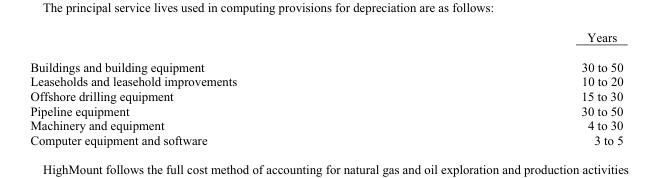table: (29, 29, 622, 146)
table column: (29, 29, 408, 146), (408, 29, 622, 146)
table column header: (29, 29, 622, 51)
table row: (29, 29, 622, 51), (29, 51, 622, 73), (29, 73, 622, 88), (29, 88, 622, 103), (29, 117, 622, 132), (29, 103, 622, 117), (29, 132, 622, 146)
